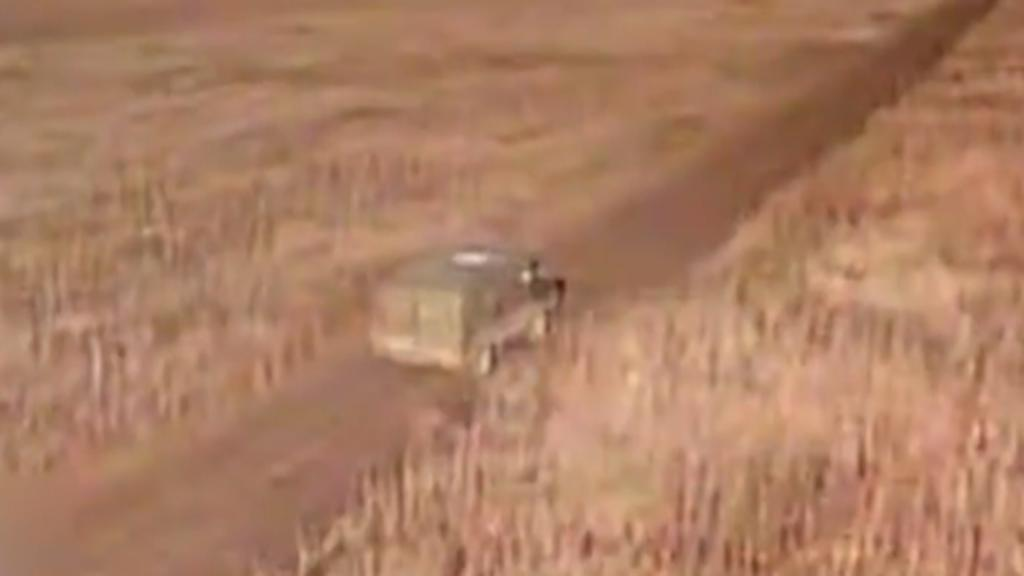CAR: (372, 240, 570, 381)
